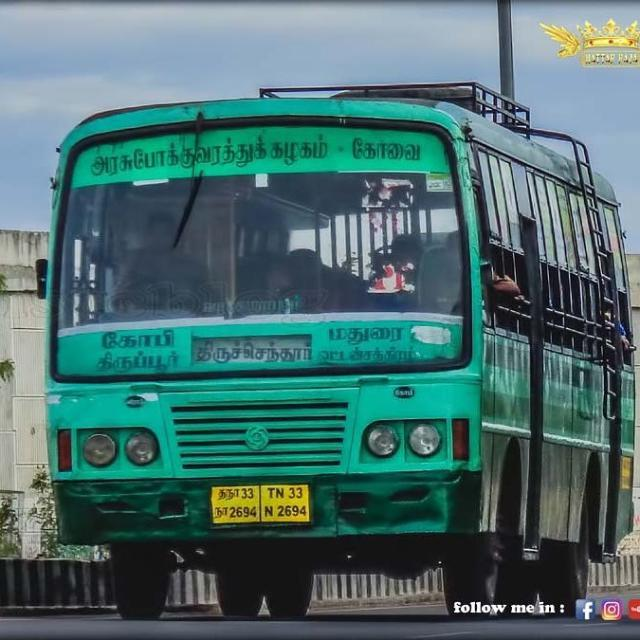Bus: (33, 78, 640, 620)
